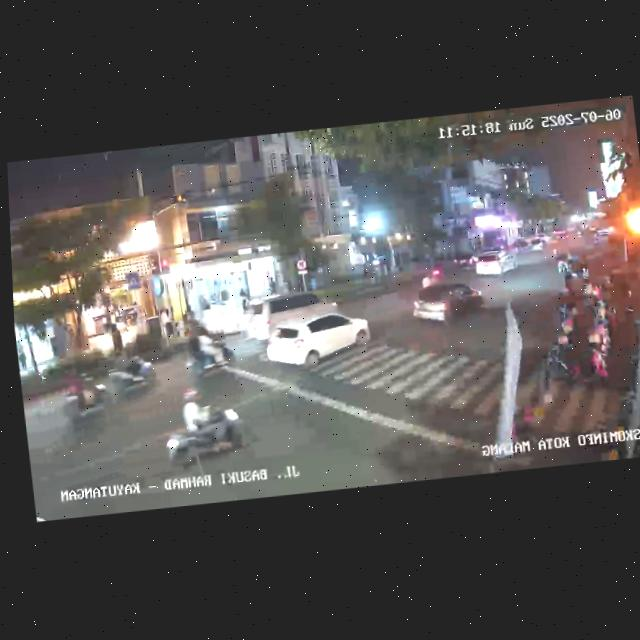car: (258, 304, 373, 377), (409, 277, 491, 333), (471, 249, 520, 280)
motorcycle: (157, 386, 250, 474), (58, 368, 114, 429), (101, 351, 159, 409), (181, 326, 236, 379), (416, 264, 447, 291)
person: (110, 320, 124, 355), (161, 305, 174, 337), (239, 285, 251, 314), (16, 343, 27, 371), (266, 270, 278, 293)
